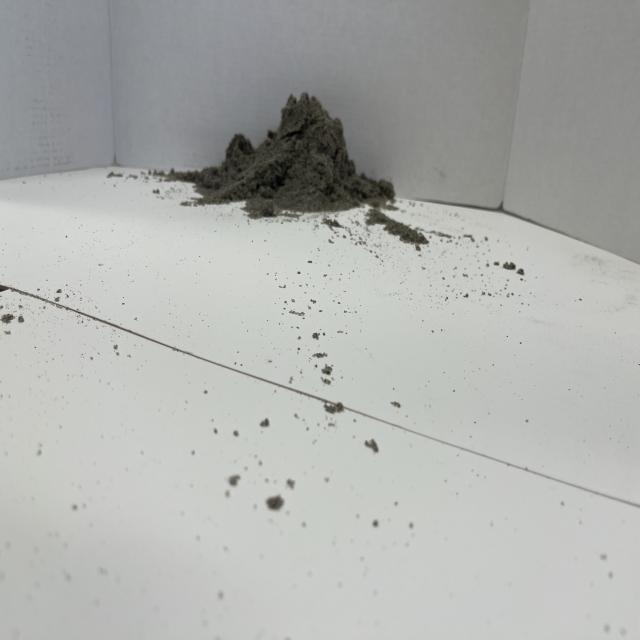sand: (179, 75, 416, 225)
